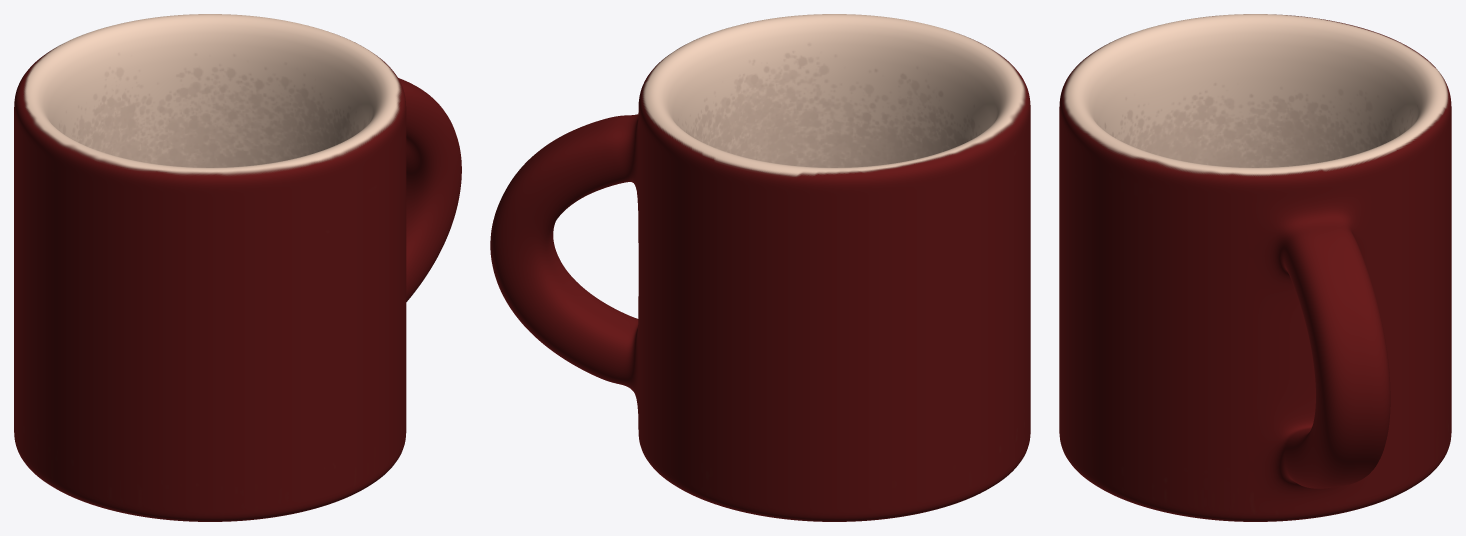
The picture shows the model from 3 angles, left to right: view 1: azimuth 30°, elevation 25°; view 2: azimuth 150°, elevation 25°; view 3: azimuth 270°, elevation 25°; orthographic projection.
Parts seen in each view (by area): view 1: mug; view 2: mug; view 3: mug.
Boxes of the visible parts, x1,y1,x2,y2 form: mug: (14, 14, 461, 521); mug: (490, 14, 1030, 521); mug: (1059, 14, 1451, 521).
Size of the model in its own units: 0.2064 by 0.1518 by 0.1518.
Materials: 1 (1 with a texture image).
